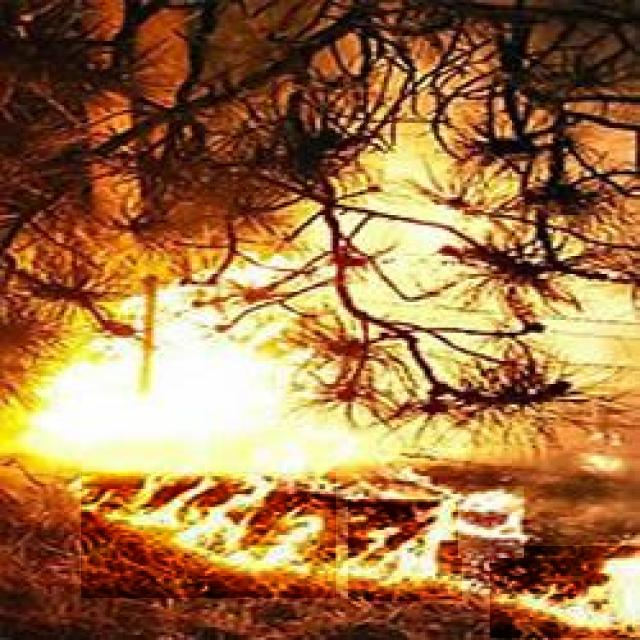Fire: (31, 284, 336, 502), (347, 301, 626, 433), (81, 472, 336, 598), (340, 124, 480, 275), (490, 546, 640, 638), (348, 499, 462, 601), (458, 486, 524, 558)
